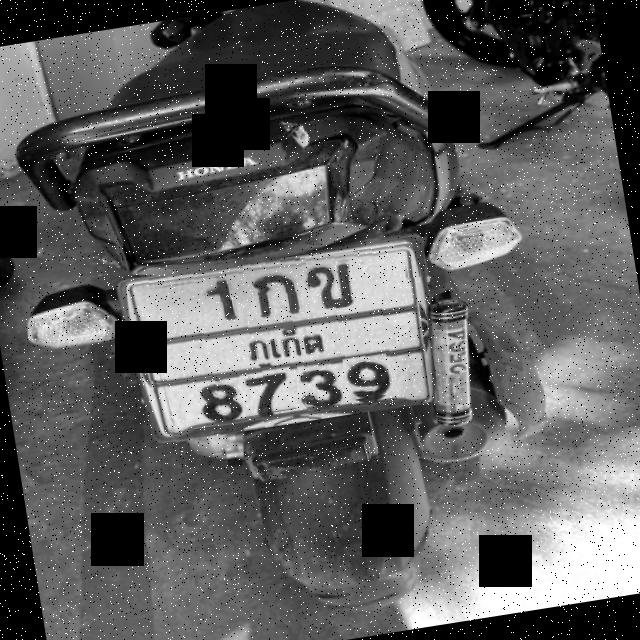letters: (242, 254, 308, 316), (305, 248, 364, 306), (240, 363, 296, 418), (296, 356, 344, 411), (190, 366, 232, 424), (342, 352, 392, 400), (203, 274, 240, 328)
license-plate: (127, 248, 435, 443)
province: (232, 319, 348, 365)
